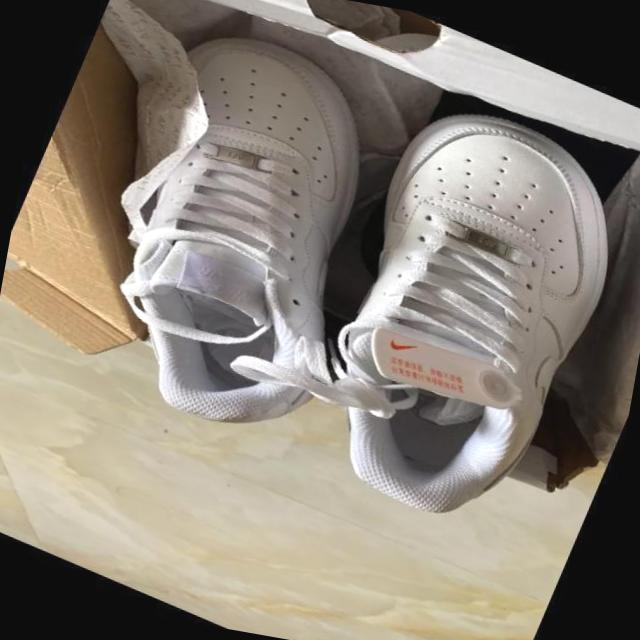nike_fake_airforce: (33, 0, 448, 474), (261, 69, 640, 562)
